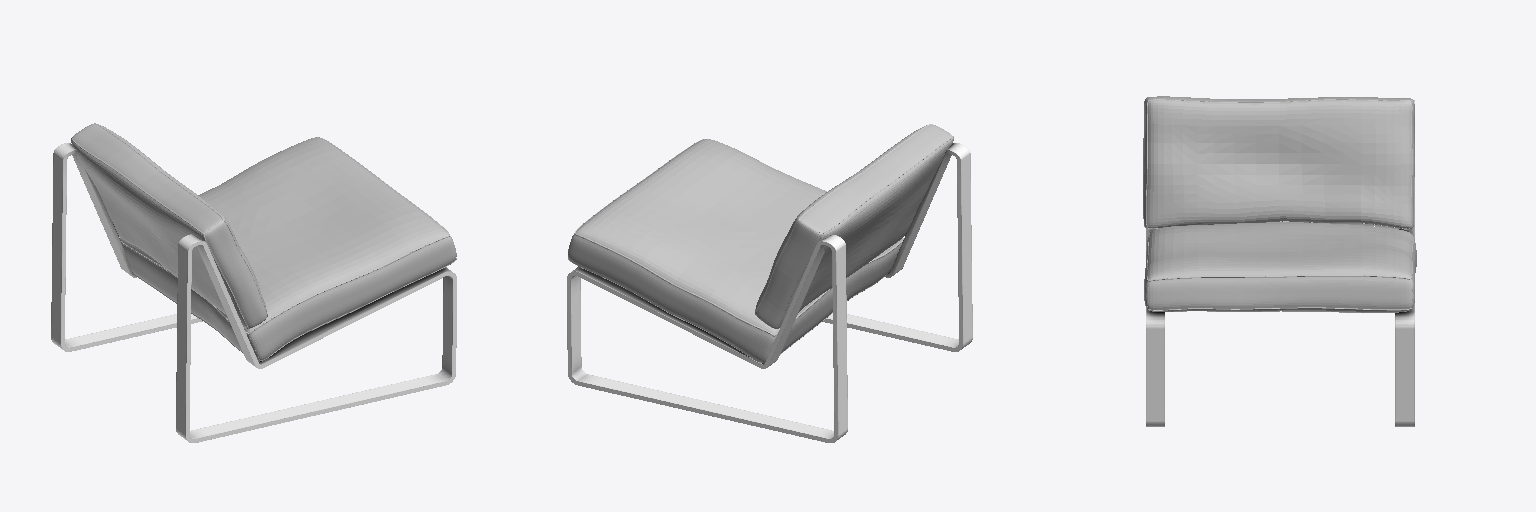
The picture shows the model from 3 angles: view 1: azimuth 30°, elevation 25°; view 2: azimuth 150°, elevation 25°; view 3: azimuth 270°, elevation 25°; orthographic projection.
Parts seen in each view (by area): view 1: Seat_LP, Sides_LP, Back_LP; view 2: Seat_LP, Sides_LP, Back_LP; view 3: Back_LP, Seat_LP, Sides_LP.
Part boxes in pixels (bbox=[...]): Seat_LP: bbox=[119, 137, 456, 361]; Sides_LP: bbox=[51, 143, 456, 442]; Back_LP: bbox=[71, 123, 267, 328]; Seat_LP: bbox=[568, 139, 903, 363]; Sides_LP: bbox=[567, 143, 972, 442]; Back_LP: bbox=[755, 124, 953, 328]; Back_LP: bbox=[1143, 96, 1414, 229]; Seat_LP: bbox=[1144, 222, 1416, 312]; Sides_LP: bbox=[1146, 100, 1414, 426].
Size of the model in its own units: 112 by 85.55 by 96.34.
2 materials, 1 textured.